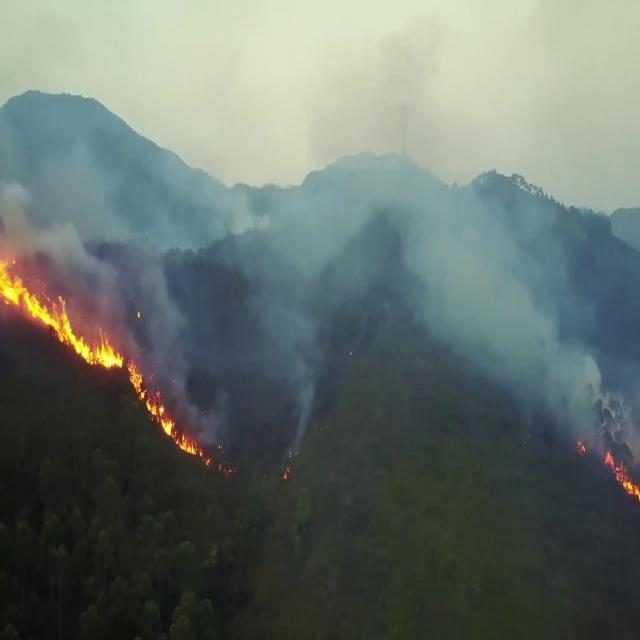Fire: (0, 256, 212, 468), (604, 449, 640, 497)
Smoke: (1, 70, 638, 483)
